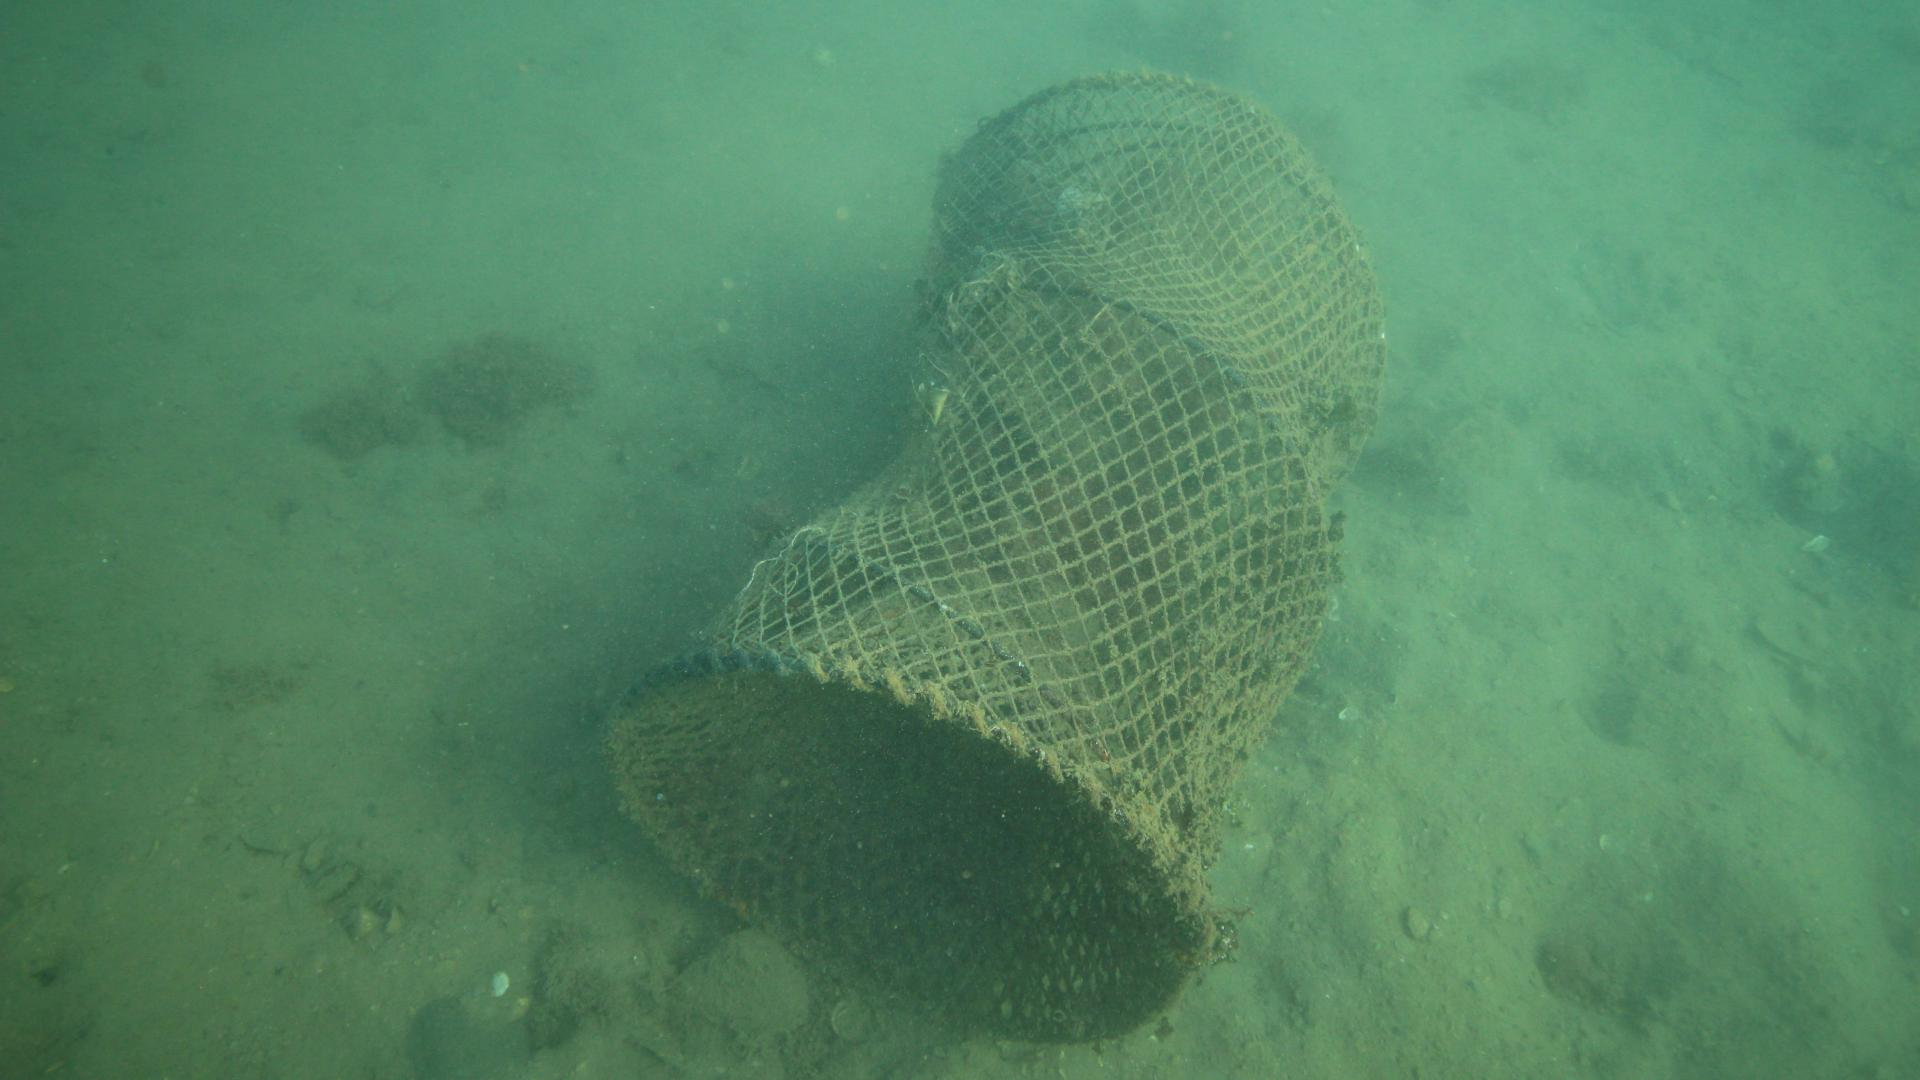spring fish trap: (597, 67, 1389, 1044)
